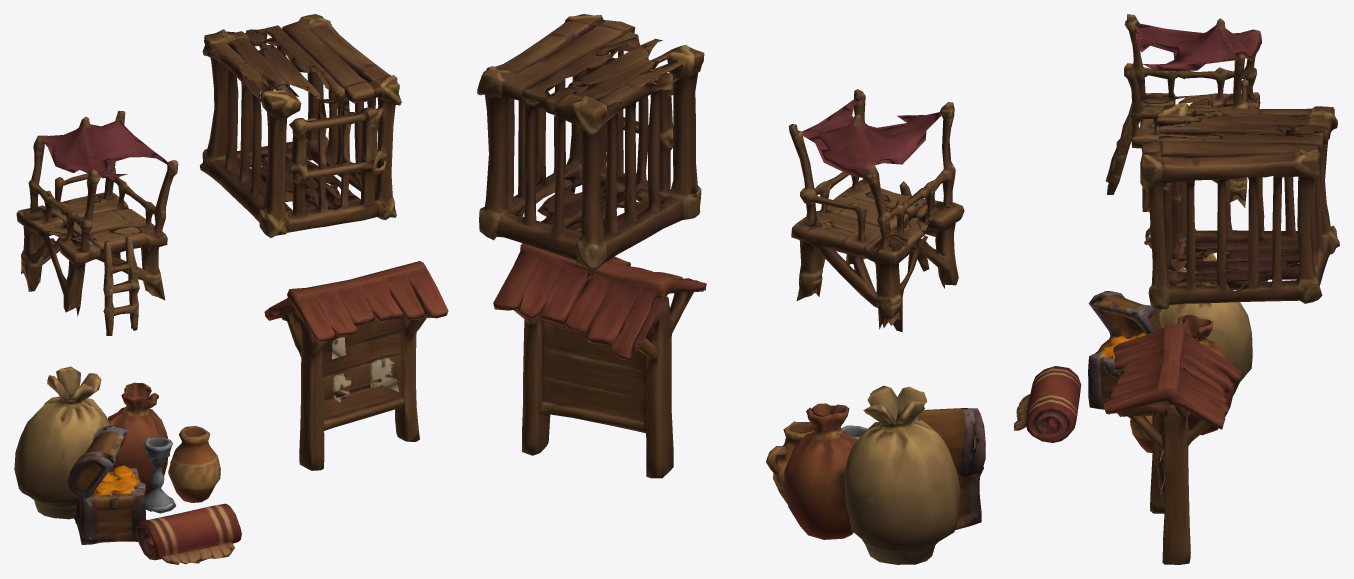
3 views of the same model, side by side, from view 1: azimuth 30°, elevation 25°; view 2: azimuth 150°, elevation 25°; view 3: azimuth 270°, elevation 25° (orthographic). The views are drawn at different scales.
Visible parts, largest first — view 1: world; view 2: world; view 3: world.
Boxes of the visible parts, <box> form: world: <box>14,14,448,564</box>; world: <box>477,14,985,564</box>; world: <box>1014,14,1339,564</box>.
Bounding box in the file's own units: 0.9937 × 0.9308 × 0.6959.
Materials: 1 (1 with a texture image).
